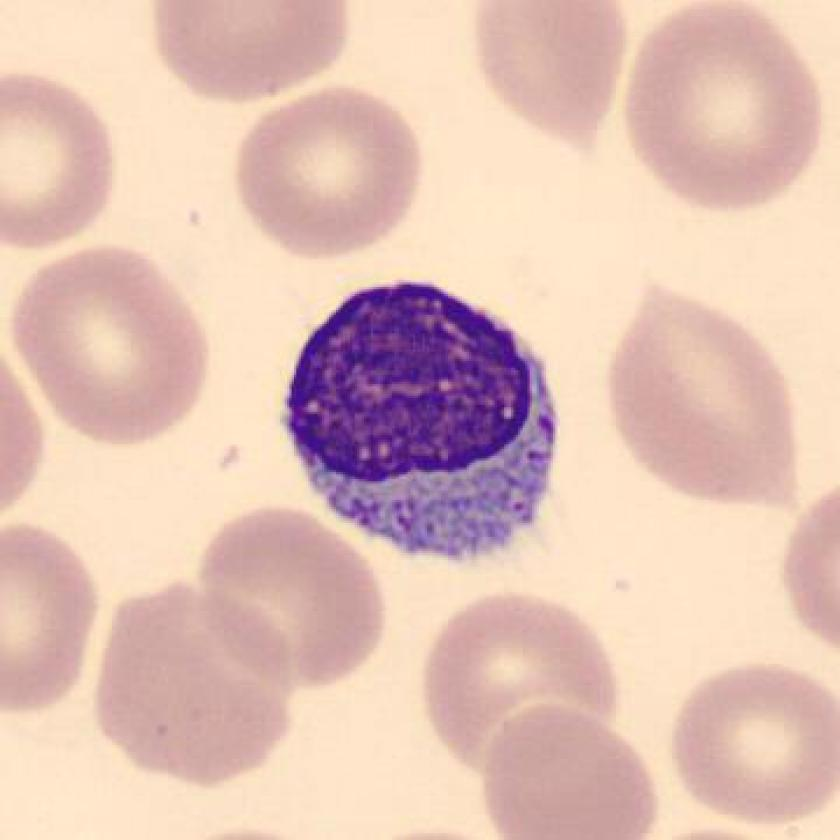lymphocyte: (276, 256, 575, 591)
